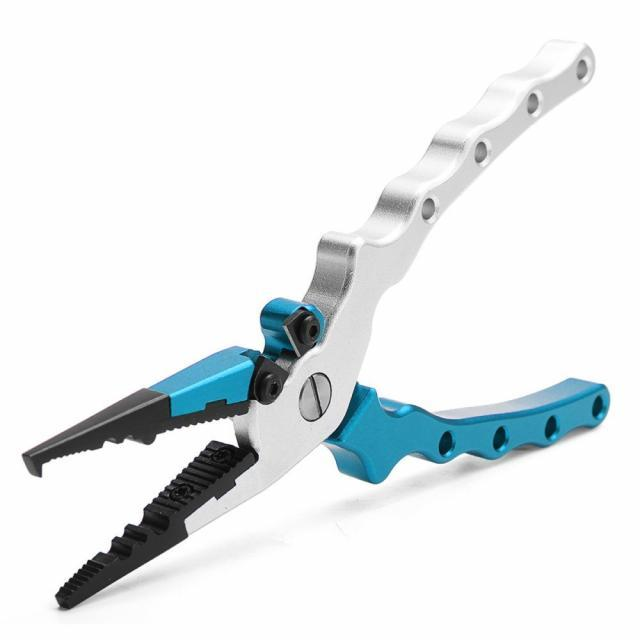pliers: (15, 31, 618, 616)
